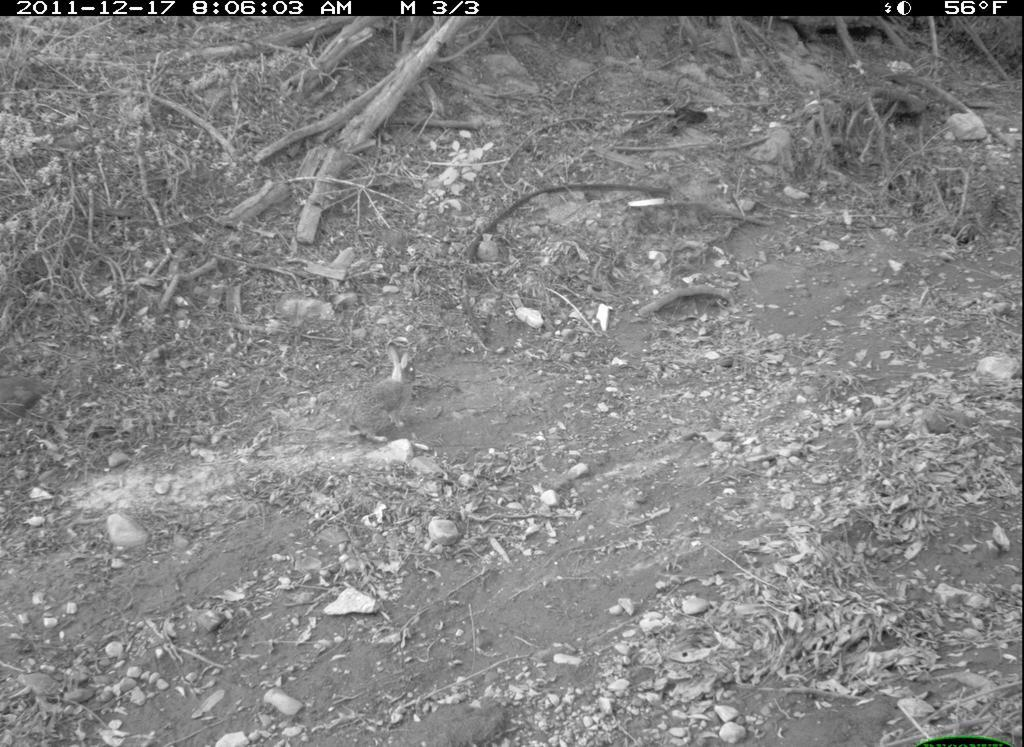rabbit: (345, 333, 425, 449)
